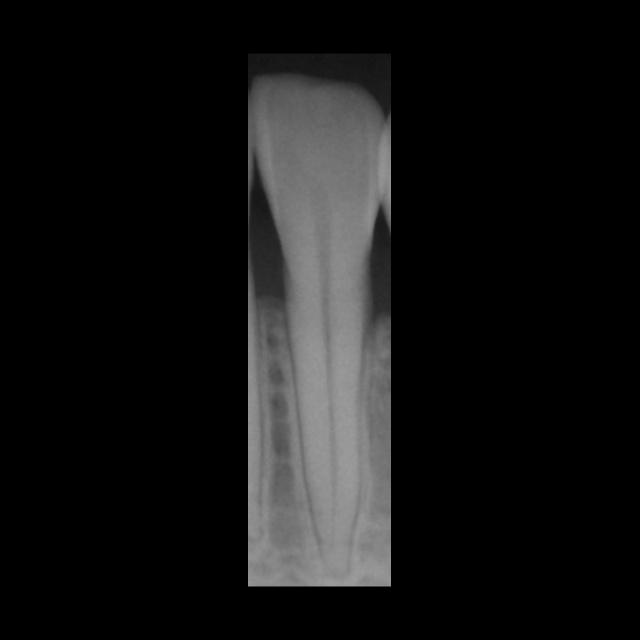tooth: (250, 71, 384, 582)
